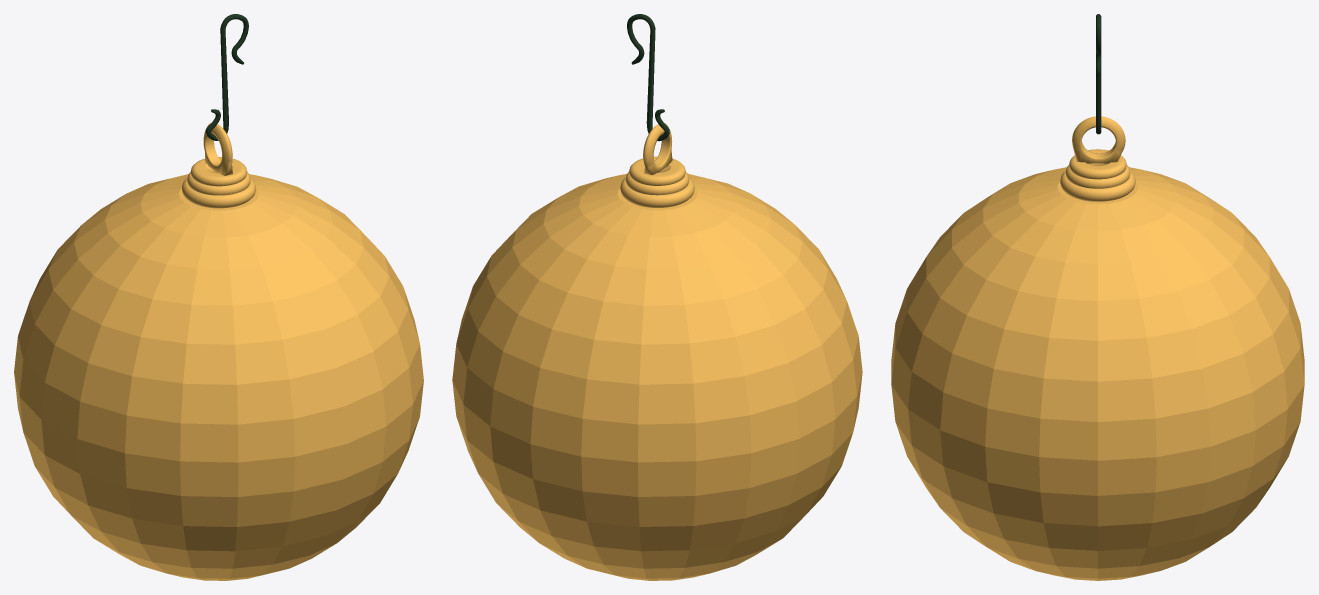
File: Pallina_natalizia_03.fbx
3 views of the same model, side by side, from view 1: azimuth 30°, elevation 25°; view 2: azimuth 150°, elevation 25°; view 3: azimuth 270°, elevation 25° (orthographic).
Parts seen in each view (by area): view 1: Pallina_natalizia_03; view 2: Pallina_natalizia_03; view 3: Pallina_natalizia_03.
Part boxes in pixels (bbox=[...]): Pallina_natalizia_03: bbox=[14, 14, 423, 580]; Pallina_natalizia_03: bbox=[452, 14, 862, 580]; Pallina_natalizia_03: bbox=[891, 14, 1304, 580].
Bounding box in the file's own units: 12.13 × 17.72 × 12.
